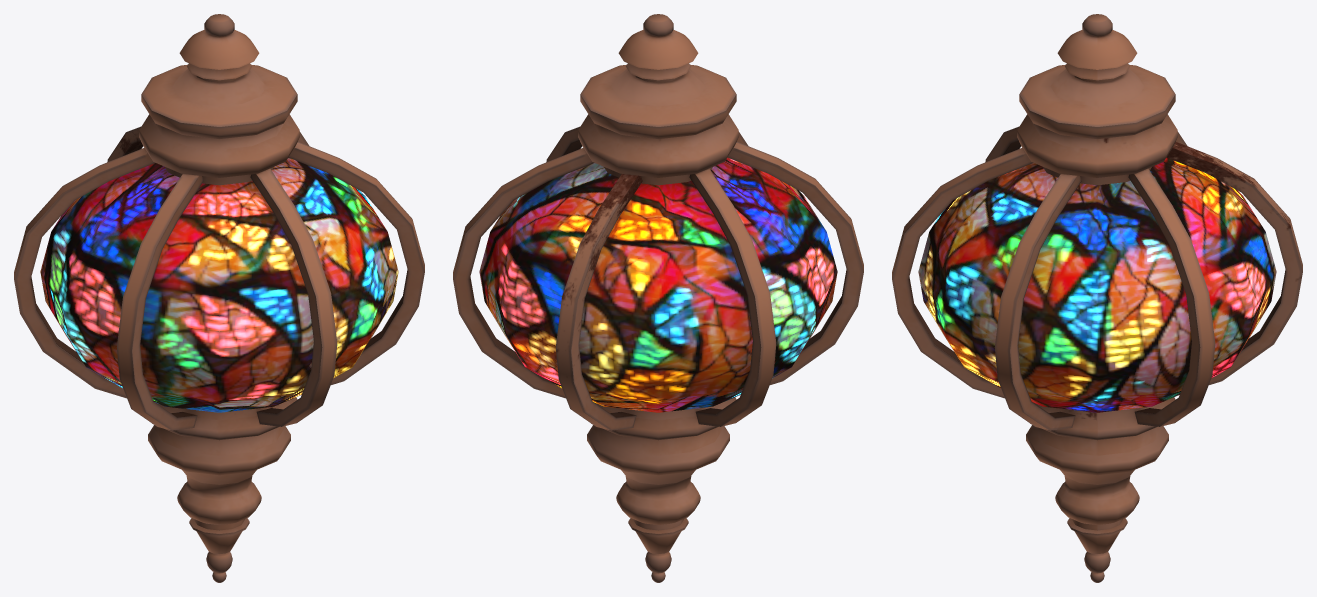
File: SM_Lantern_02.fbx
3 renders of one model, left to right at view 1: azimuth 30°, elevation 25°; view 2: azimuth 150°, elevation 25°; view 3: azimuth 270°, elevation 25°, orthographic.
Visible parts, largest first — view 1: SM_Lantern_02_LOD0; view 2: SM_Lantern_02_LOD0; view 3: SM_Lantern_02_LOD0.
Boxes of the visible parts, x1,y1,x2,y2 form: SM_Lantern_02_LOD0: [14, 14, 424, 582]; SM_Lantern_02_LOD0: [453, 14, 863, 582]; SM_Lantern_02_LOD0: [892, 14, 1302, 582].
Bounding box in the file's own units: 74.66 × 82.17 × 124.
